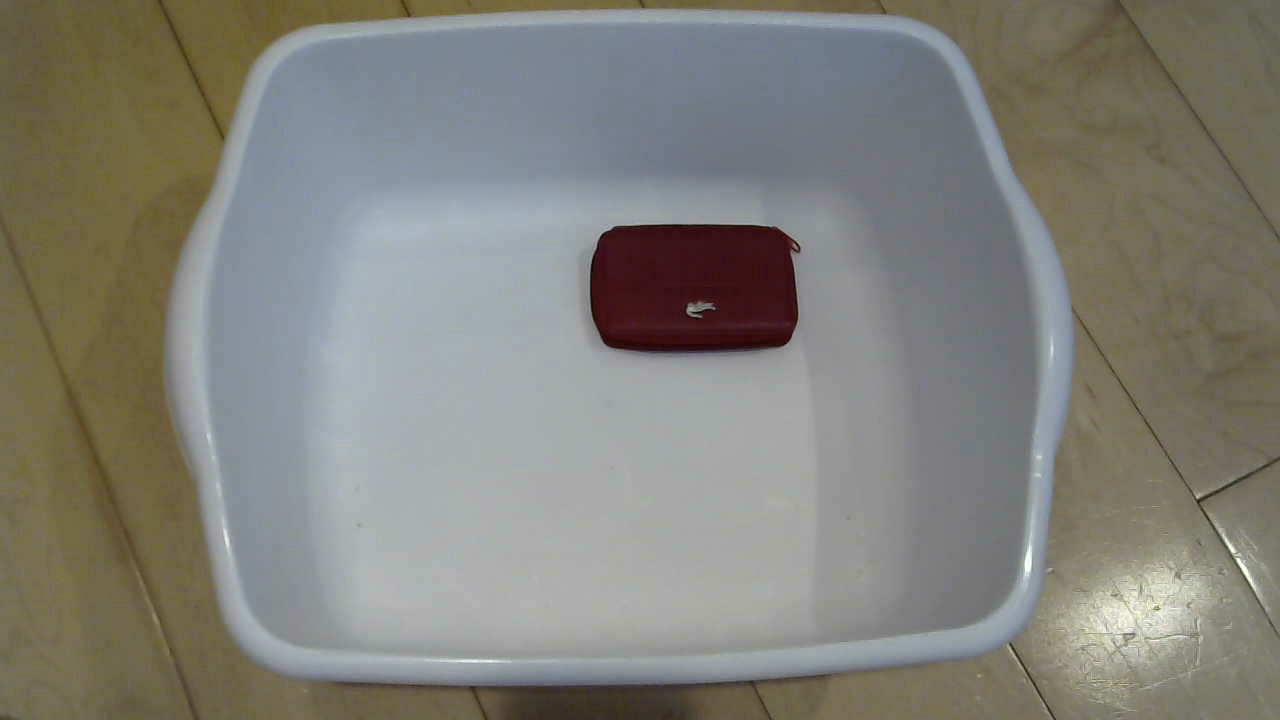wallet: (574, 213, 814, 368)
